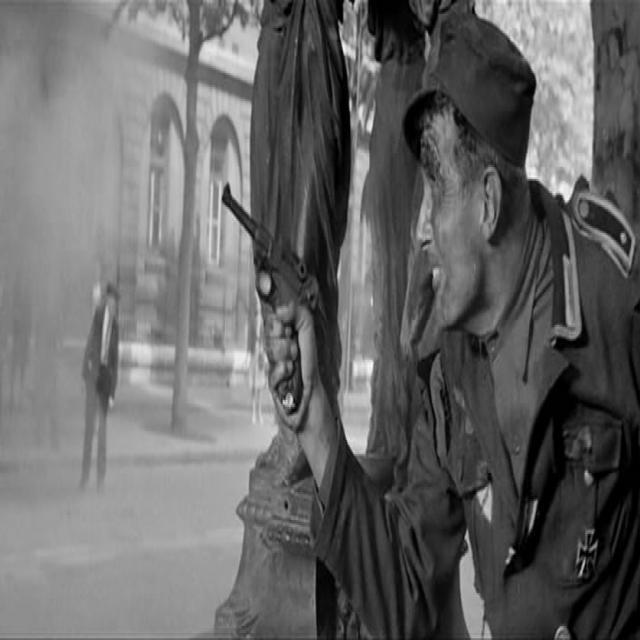gun-knife-thesis - v11 Yolov5 augmented: (218, 177, 322, 409)
